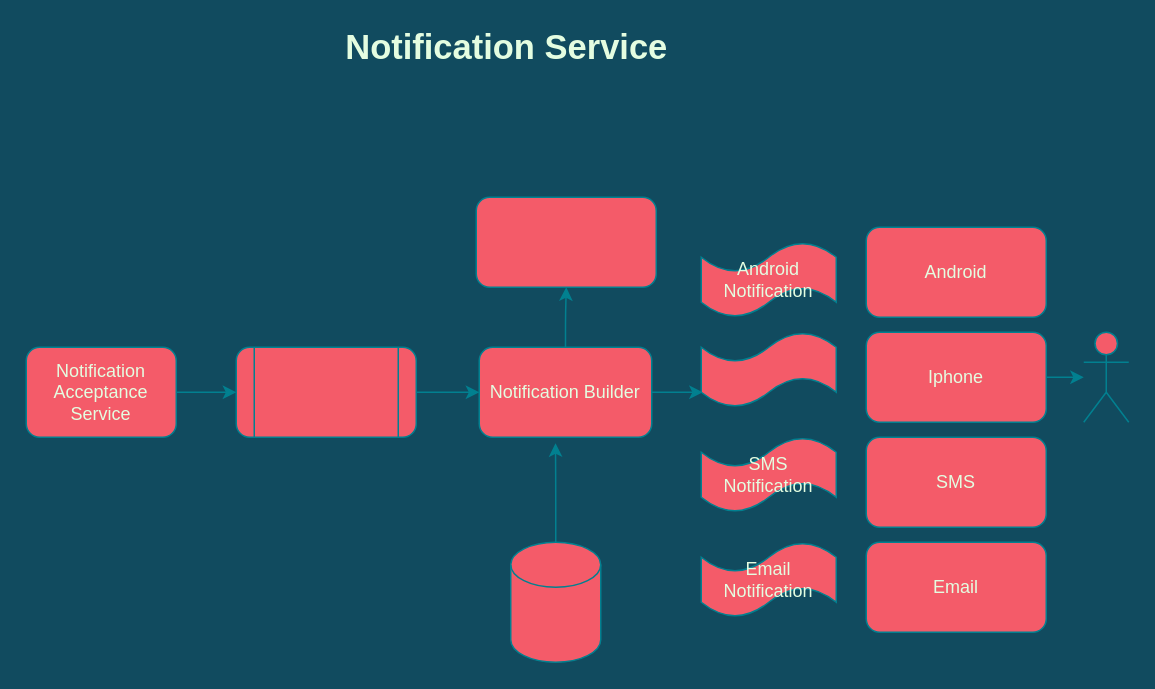
This 1155x689 diagram has some shape labels left out. The shapes that lost their labels are listed below. From the top down, each one's centre as x and y in pixels, then its label:
At (x=565, y=241): "Notification Template".
At (x=768, y=369): "Iphone Notification".
At (x=1105, y=376): "Actor".
At (x=325, y=391): "Kafka".
At (x=555, y=601): "User Pref".
